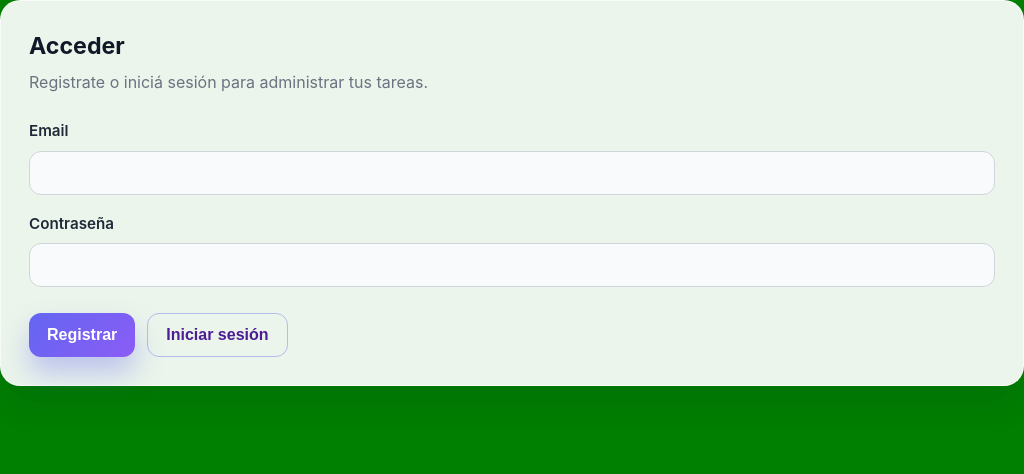
RegisterForm › muestra errores cuando los campos están vacíos
Click the button "Registrar" at coordinates (82, 335), box [29,313,135,357]
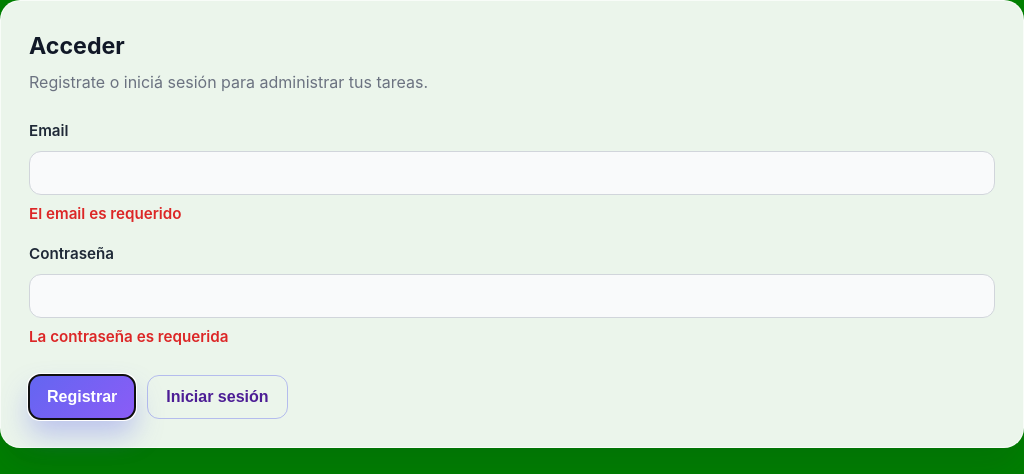
expect the text "El email es requerido" is shown: met, box [29,204,182,223]
expect the text "La contraseña es requerida" is shown: met, box [29,327,228,346]
